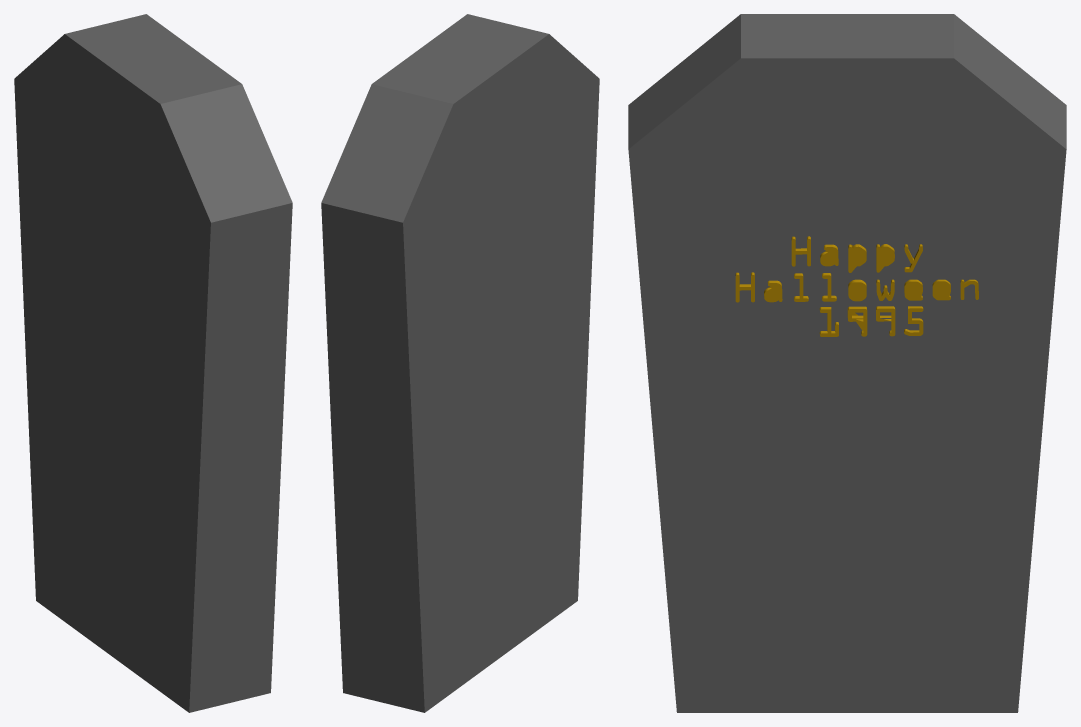
Rendered from HappyHalloween1995.fbx.
3 views of the same model, side by side, from view 1: azimuth 30°, elevation 25°; view 2: azimuth 150°, elevation 25°; view 3: azimuth 270°, elevation 25° (orthographic). The views are drawn at different scales.
Parts seen in each view (by area): view 1: pCube1; view 2: pCube1; view 3: pCube1, typeMesh1.
Boxes of the visible parts, <box> form: pCube1: <box>14,14,292,712</box>; pCube1: <box>321,14,599,712</box>; pCube1: <box>628,14,1066,712</box>; typeMesh1: <box>735,236,978,336</box>.
Bounding box in the file's own units: 1.48 × 9.36 × 5.68.
